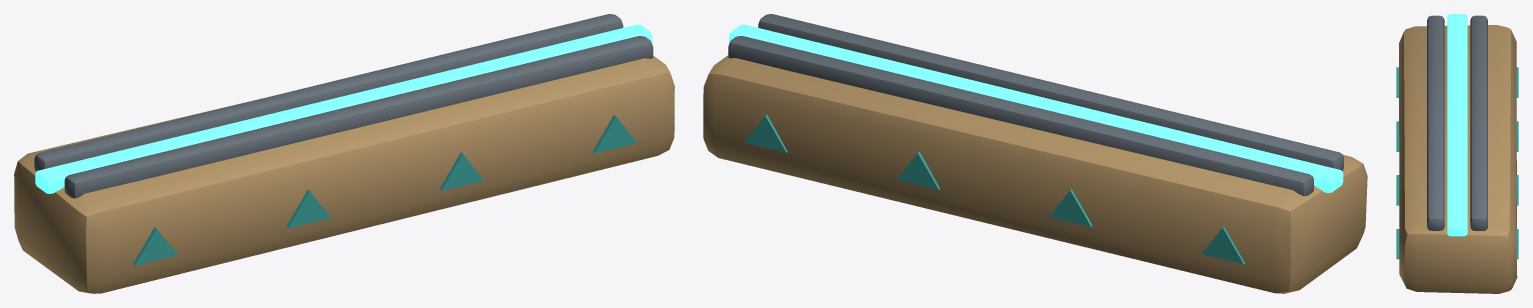
The model's file is deco_conduit_stone_long.fbx.
3 views of the same model, side by side, from view 1: azimuth 30°, elevation 25°; view 2: azimuth 150°, elevation 25°; view 3: azimuth 270°, elevation 25° (orthographic). The views are drawn at different scales.
Parts seen in each view (by area): view 1: ConduitStone_Long_Stone, ConduitStone_Long_Lips, ConduitStone_Long_GlowLine, ConduitStone_Long_Glyphs; view 2: ConduitStone_Long_Stone, ConduitStone_Long_Lips, ConduitStone_Long_GlowLine, ConduitStone_Long_Glyphs; view 3: ConduitStone_Long_Stone, ConduitStone_Long_Lips, ConduitStone_Long_GlowLine, ConduitStone_Long_Glyphs.
Part boxes in pixels (bbox=[...]): ConduitStone_Long_Stone: bbox=[14, 56, 674, 293]; ConduitStone_Long_Lips: bbox=[34, 14, 653, 198]; ConduitStone_Long_GlowLine: bbox=[35, 24, 652, 193]; ConduitStone_Long_Glyphs: bbox=[133, 115, 636, 265]; ConduitStone_Long_Stone: bbox=[703, 55, 1367, 293]; ConduitStone_Long_Lips: bbox=[728, 14, 1343, 196]; ConduitStone_Long_GlowLine: bbox=[729, 24, 1343, 192]; ConduitStone_Long_Glyphs: bbox=[744, 114, 1244, 264]; ConduitStone_Long_Stone: bbox=[1399, 25, 1517, 293]; ConduitStone_Long_Lips: bbox=[1427, 15, 1487, 230]; ConduitStone_Long_GlowLine: bbox=[1447, 14, 1467, 236]; ConduitStone_Long_Glyphs: bbox=[1396, 67, 1518, 259].
Bounding box in the file's own units: 198 × 34.4 × 48.
